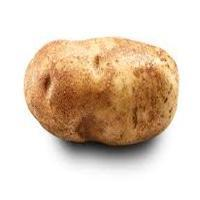biodegradable: (23, 36, 180, 145)
